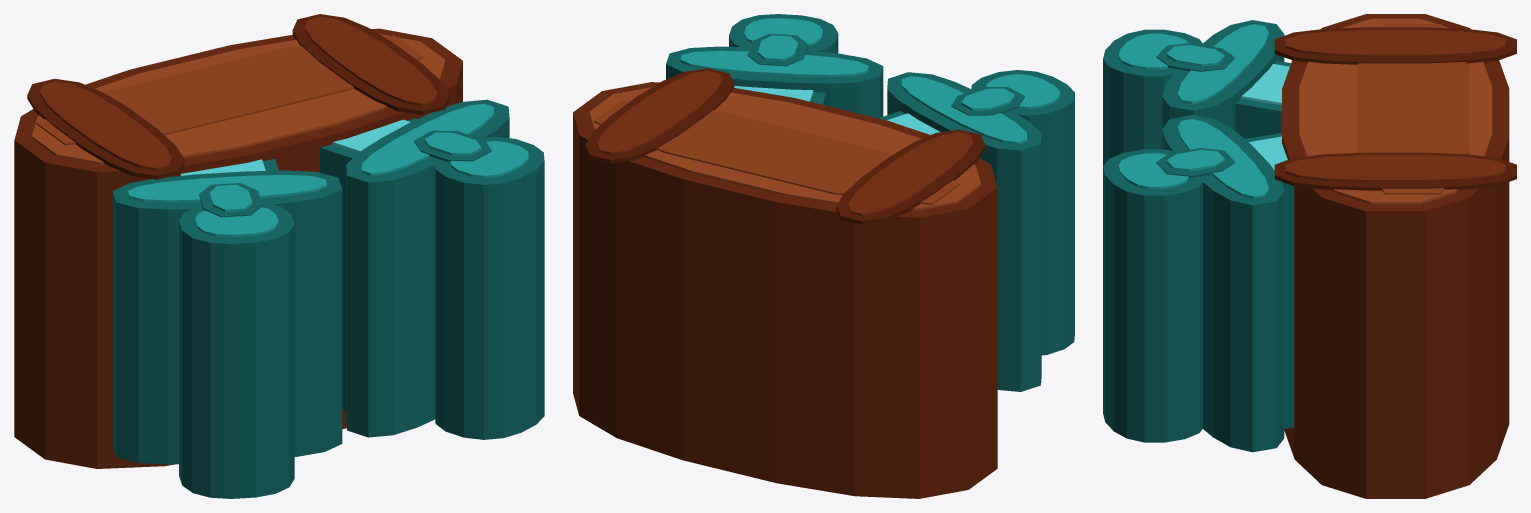
Rendered from bag_espadas_diamante.fbx.
3 views of the same model, side by side, from view 1: azimuth 30°, elevation 25°; view 2: azimuth 150°, elevation 25°; view 3: azimuth 270°, elevation 25° (orthographic). The views are drawn at different scales.
Parts seen in each view (by area): view 1: bag_espadas_diamante_mochila; view 2: bag_espadas_diamante_mochila; view 3: bag_espadas_diamante_mochila.
Part boxes in pixels (box(x1,y1,x2,y2)): bag_espadas_diamante_mochila: box(14, 14, 544, 498); bag_espadas_diamante_mochila: box(573, 14, 1074, 498); bag_espadas_diamante_mochila: box(1103, 14, 1516, 498).
Bounding box in the file's own units: 2.71 × 1.89 × 2.4.
Materials: 1 (1 with a texture image).
